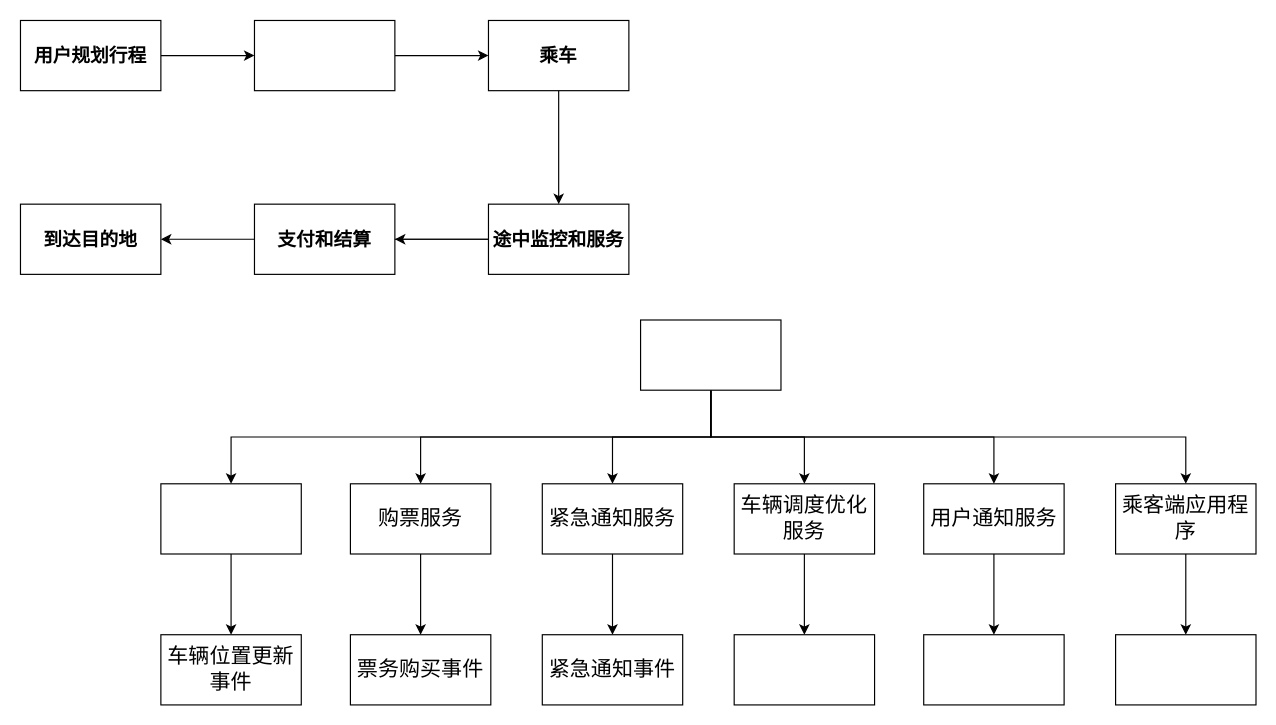
The diagram is 1276 pixels wide and 725 high, and some of its shapes have lost their labels. Each missing label, with the centre of its shape:
地铁乘车系统: (x=710, y=354)
用户通知和提醒事件: (x=993, y=669)
订阅事件: (x=1185, y=669)
购票: (x=324, y=55)
车辆调度优化事件: (x=804, y=669)
车辆调度服务: (x=230, y=518)
